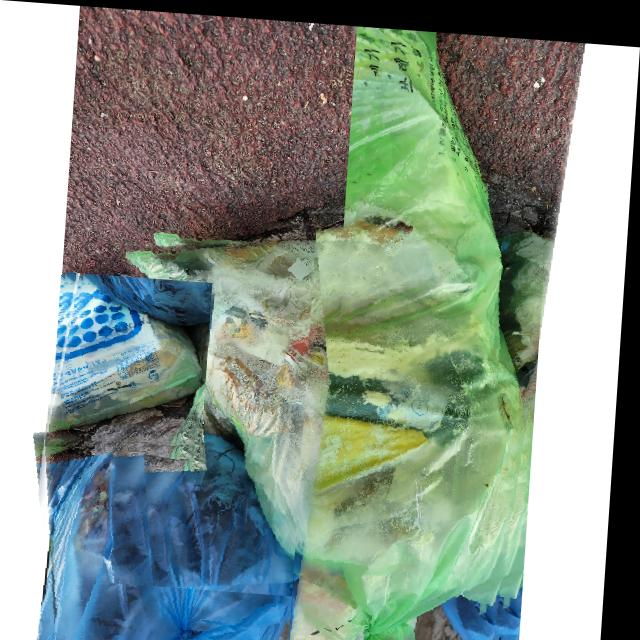general_trashbag: (299, 23, 586, 640), (133, 228, 433, 583), (53, 272, 216, 445)
other_trashbag: (49, 402, 307, 640)
